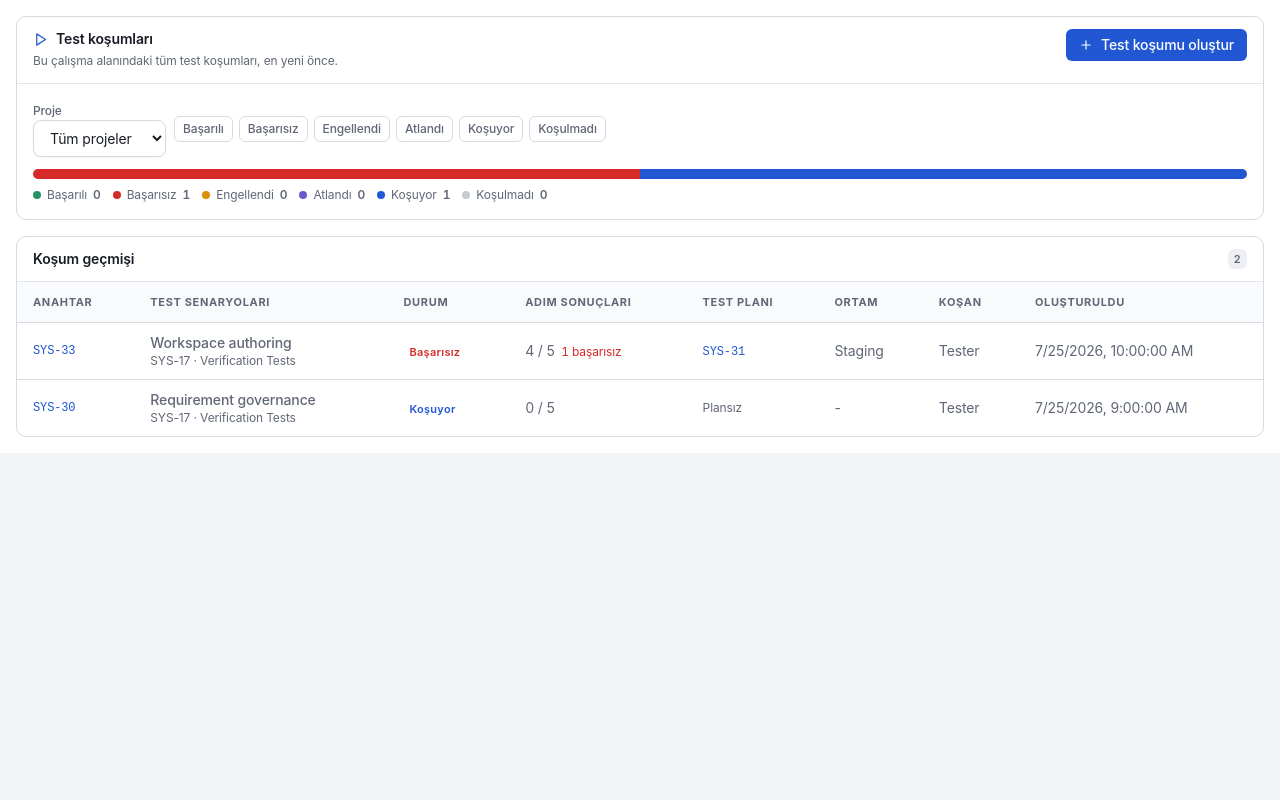
Test case: TestExecutionsPage › keeps the start button disabled until a scenario is chosen
Expected: the row with test id "execution-SYS-33" is shown, [17, 322, 1263, 380]
Click the button with test id "open-create-execution". click: (1156, 45)
box: [1066, 29, 1247, 61]
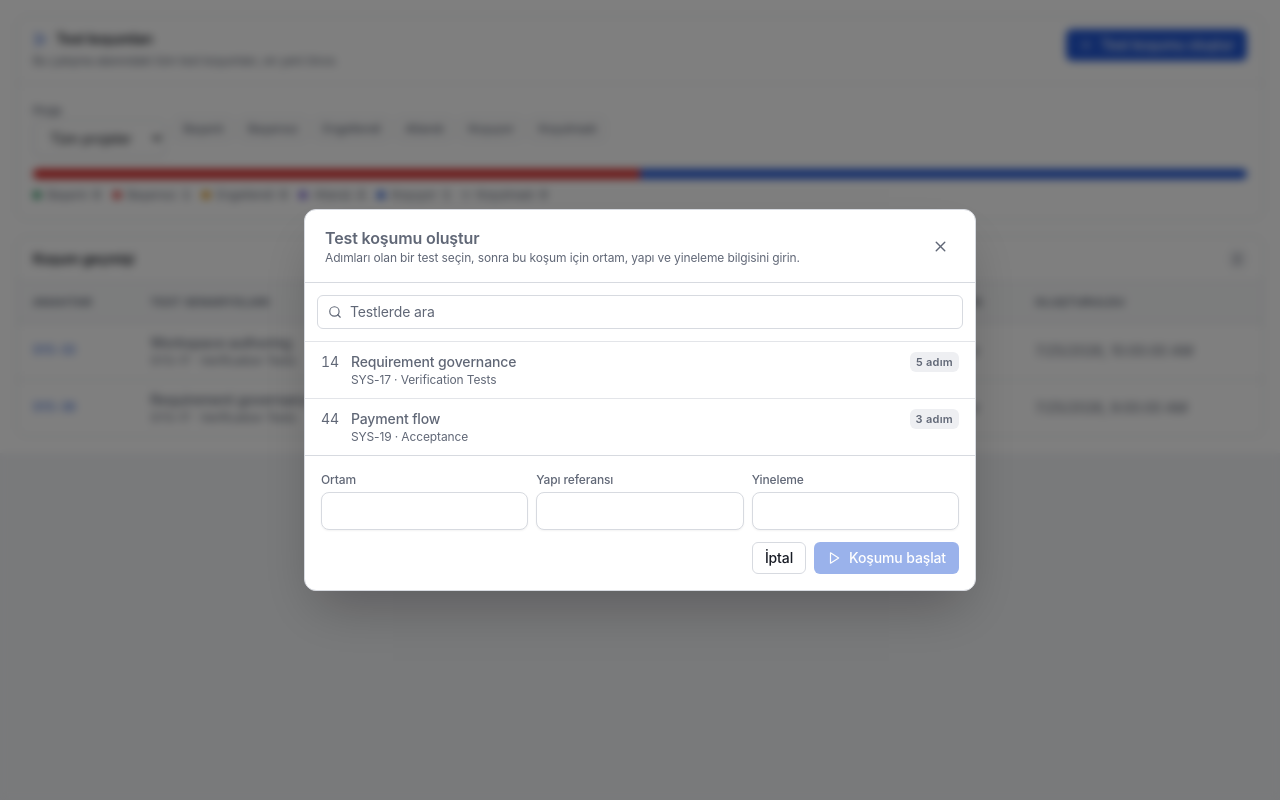
Expected: the button with test id "execution-candidate-14" is shown
Expected: the button with test id "submit-create-execution" is disabled, [814, 542, 959, 574]
Click the button with test id "execution-candidate-14". click: (434, 362)
box: [305, 342, 975, 399]
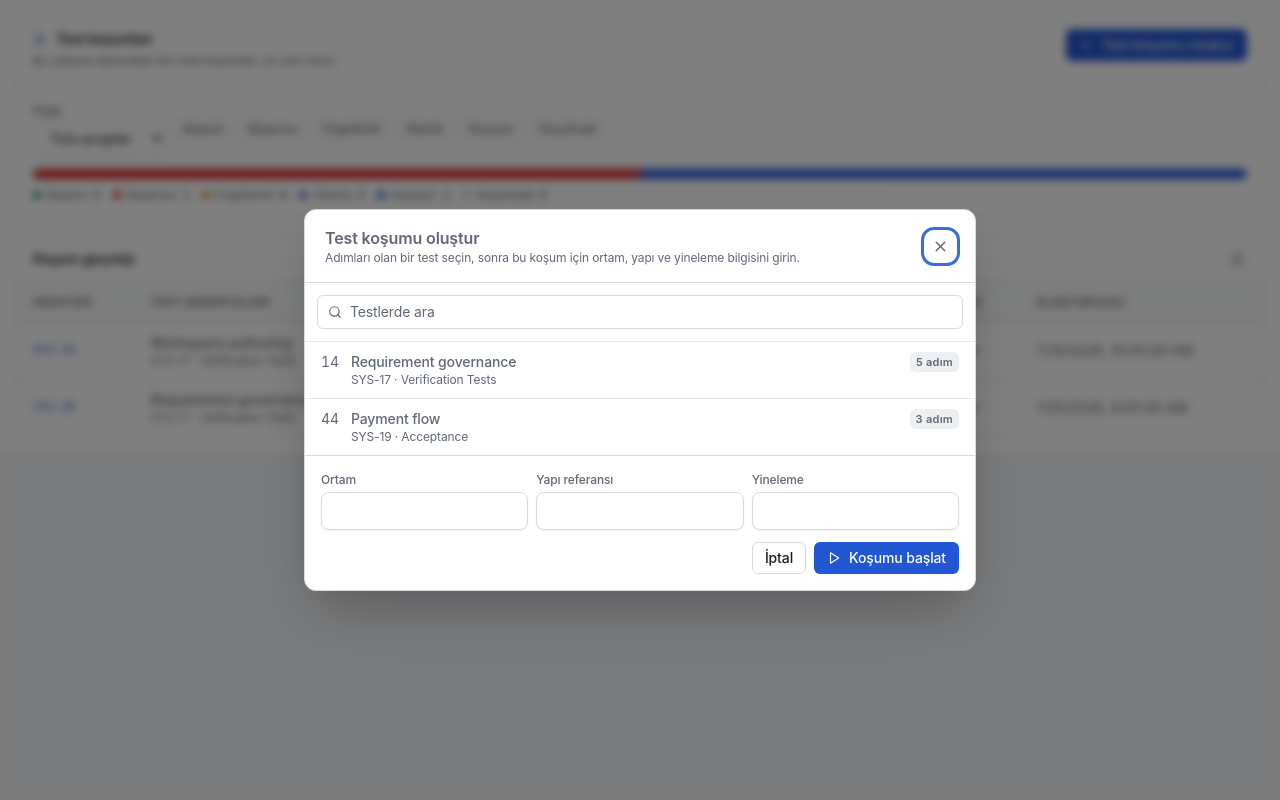
Expected: the button with test id "submit-create-execution" is enabled, [814, 542, 959, 574]
